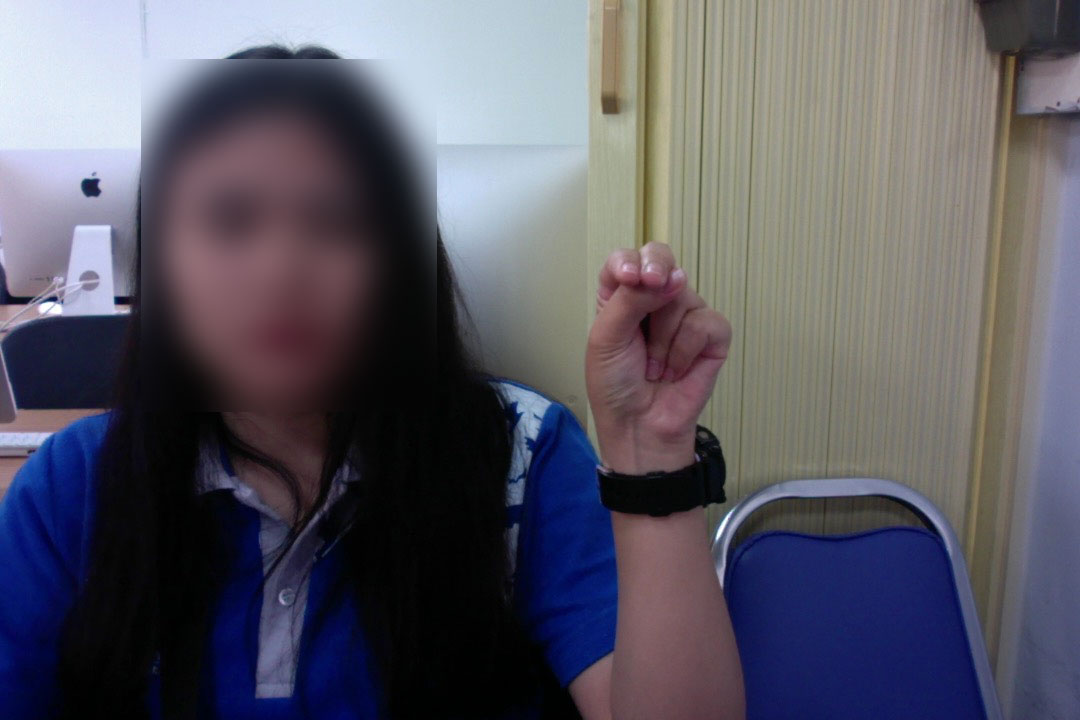nor: (573, 233, 736, 452)
